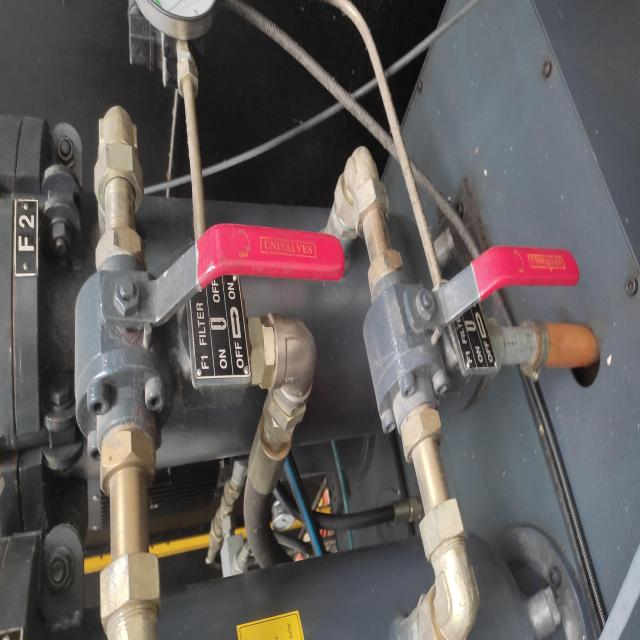closed_valve: (70, 220, 348, 459), (362, 246, 581, 443)
